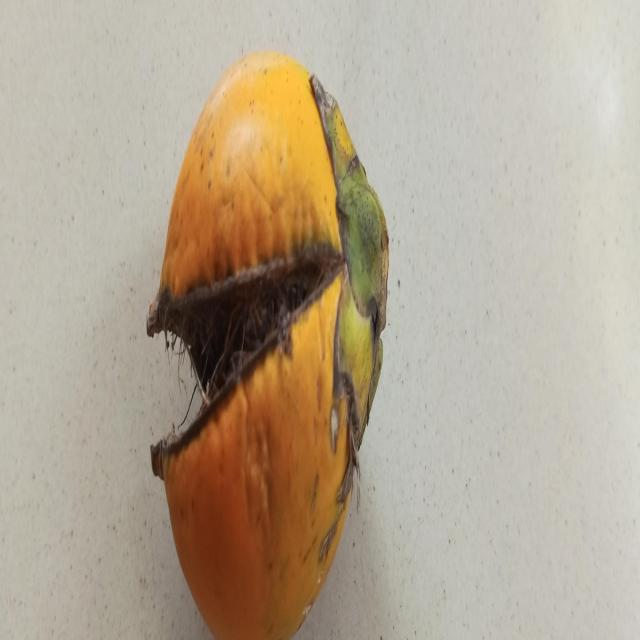damaged: (147, 52, 390, 640)
